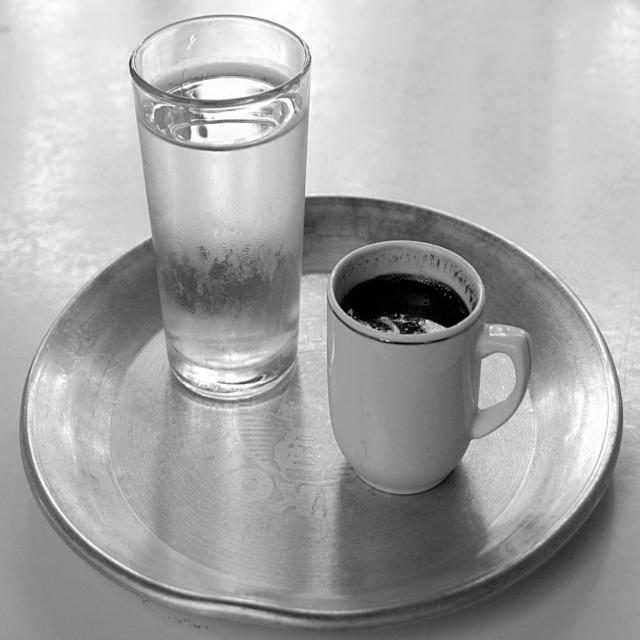Coffee: (333, 274, 469, 348)
Tea: (332, 272, 467, 339)
